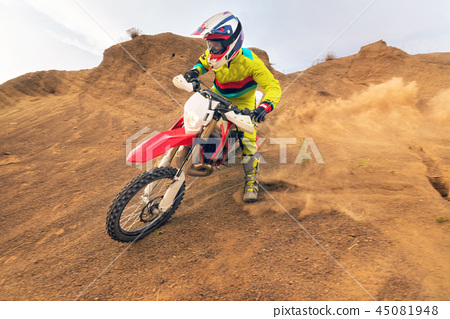helmet: (197, 10, 249, 69)
